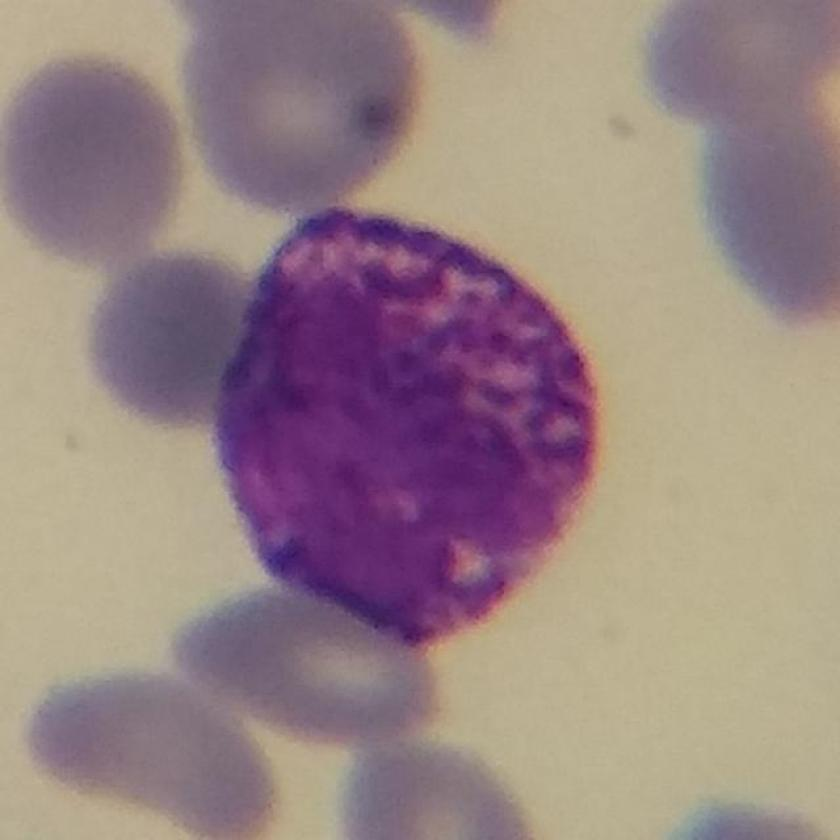basophil: (208, 195, 618, 657)
